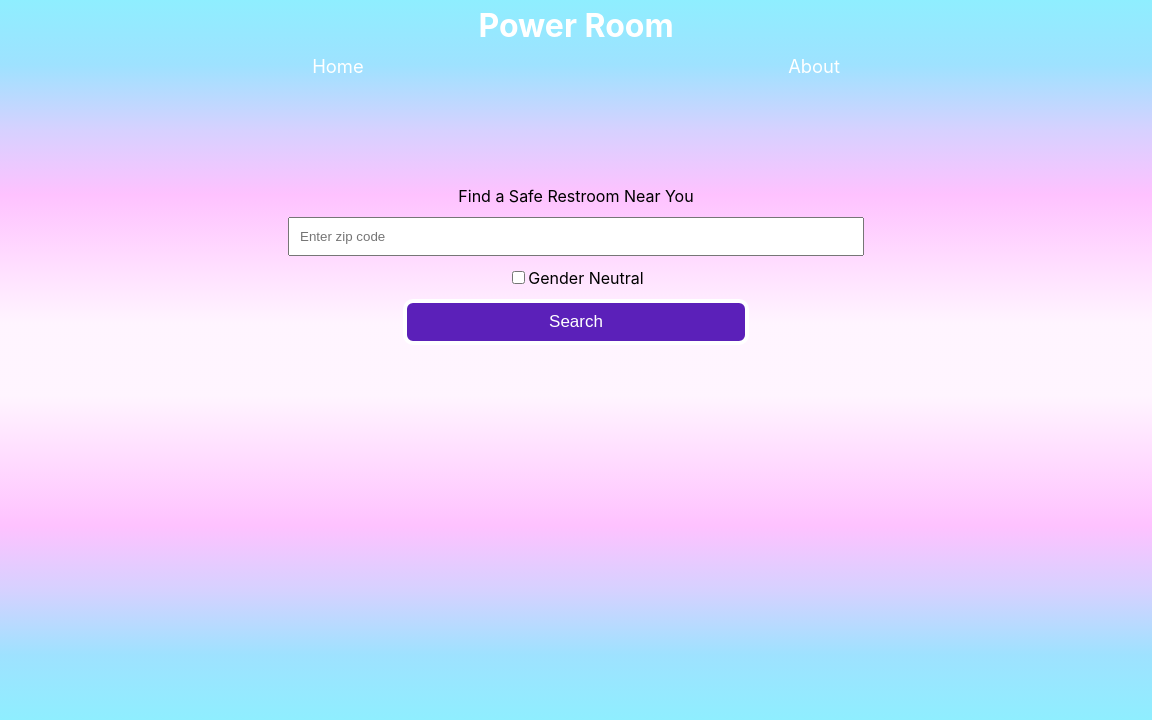
Test: Search Bar › Should show error message and clear form if an incorrect zip code entered
Step 1. Type "21834092843" into the number field with test id "search-input" → (576,237), box top-left (288, 217), bottom-right (864, 256)
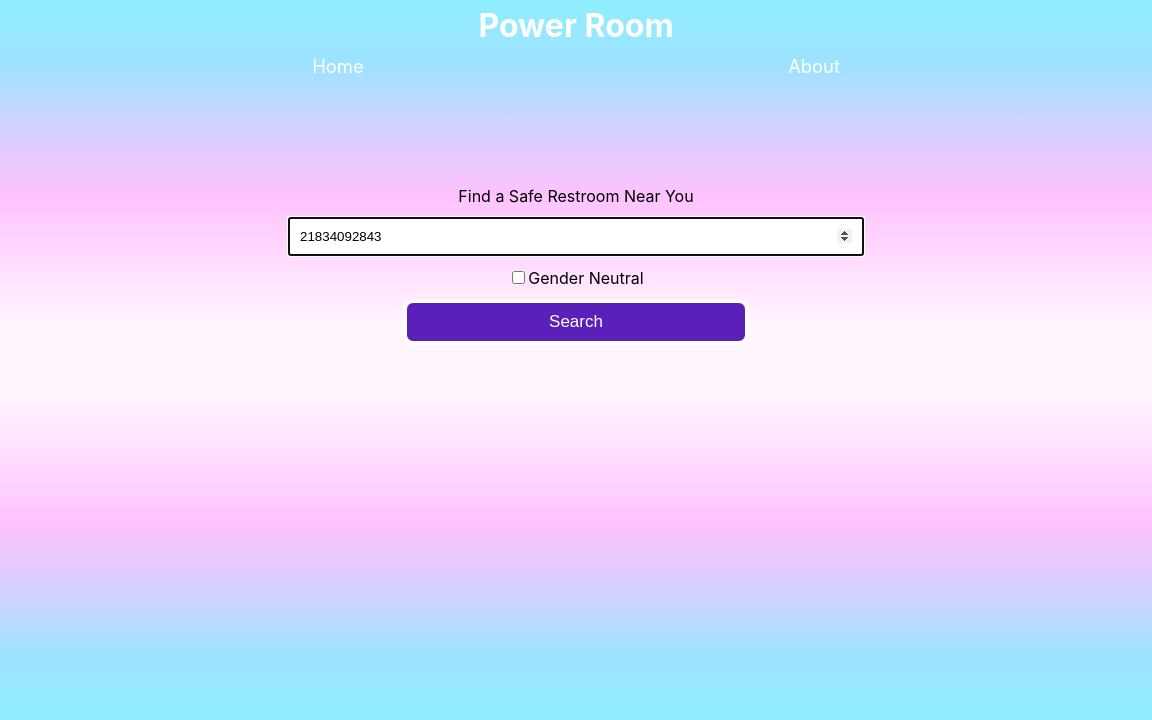
Step 2. Click the button with test id "search-button" → (576,322), box top-left (403, 299), bottom-right (749, 345)
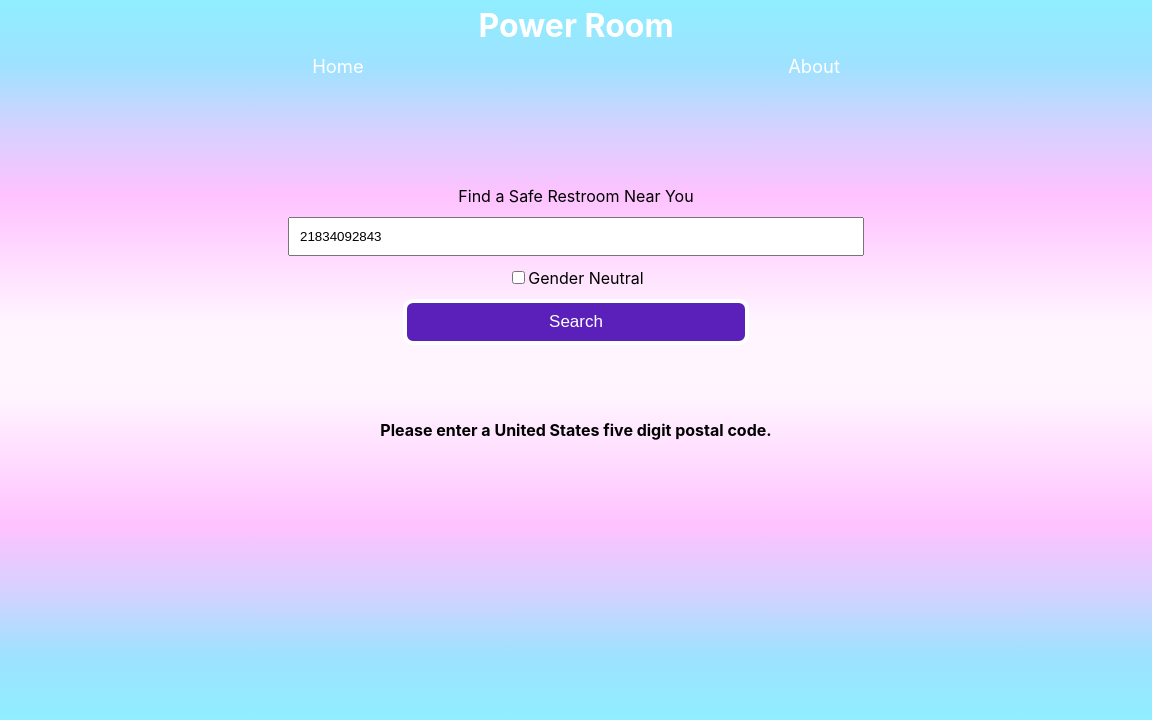
Expected: the heading with test id "error-message" reads "Please enter a United States five digit postal code.", top-left (380, 420), bottom-right (771, 440)
